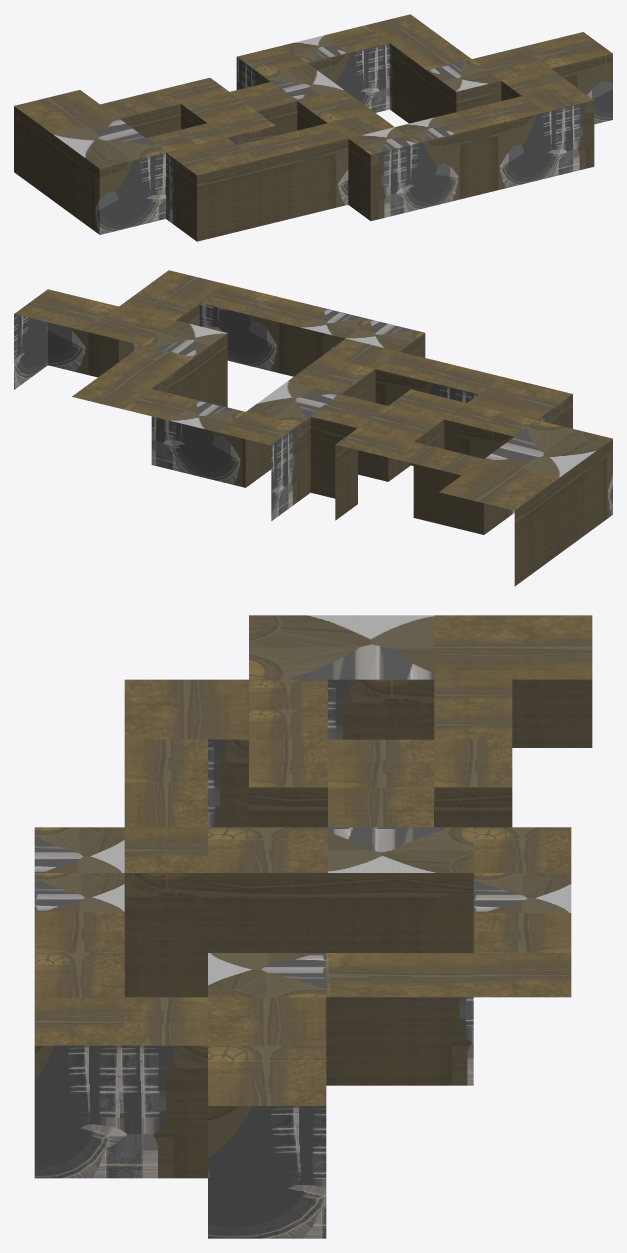
Rendered from Block_1_Tiles.fbx.
3 views of the same model, one above another, from view 1: azimuth 30°, elevation 25°; view 2: azimuth 150°, elevation 25°; view 3: azimuth 270°, elevation 25° (orthographic). The views are drawn at different scales.
Parts seen in each view (by area): view 1: Box001; view 2: Box001; view 3: Box001.
Boxes of the visible parts, bbox=[...] form: Box001: bbox=[14, 14, 612, 241]; Box001: bbox=[14, 270, 612, 586]; Box001: bbox=[34, 615, 592, 1238].
Size of the model in its own units: 1800 by 227 by 865.
